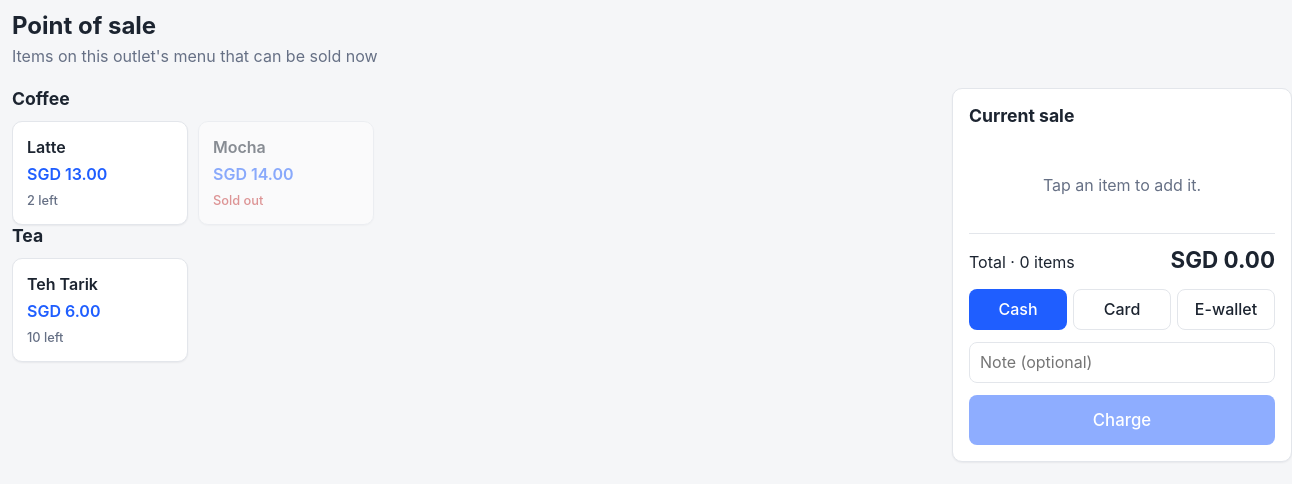
Scenario: PosPage › never puts more in the cart than is in stock
Expected: the text "Latte" is shown, [27,136,66,159]
Click the button "Latte SGD 13.00 2 left": (100, 173) [12,121,188,225]
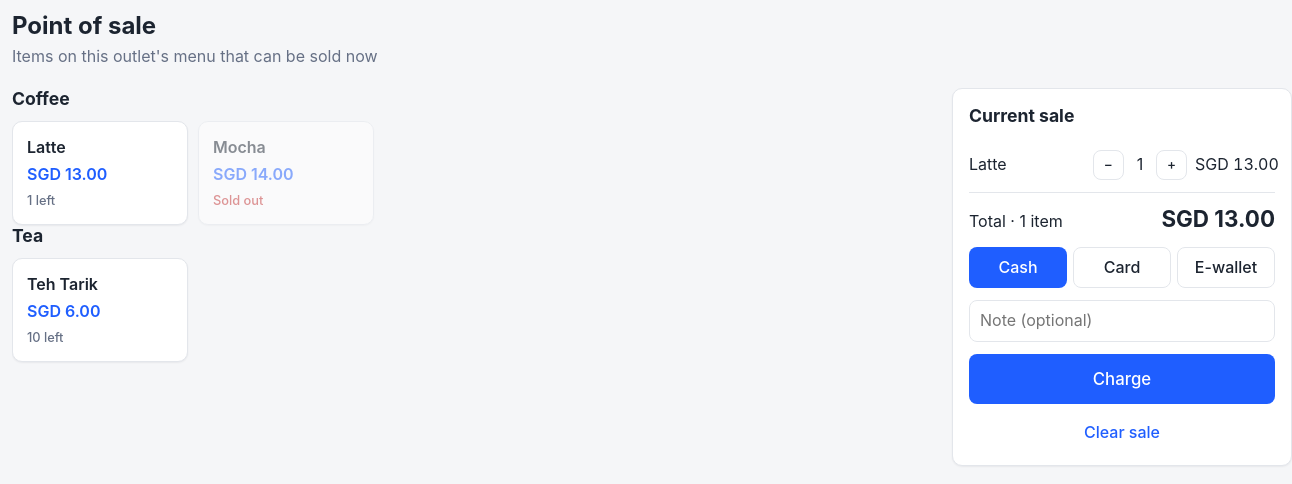
Click the button "Latte SGD 13.00 1 left": (100, 173) [12,121,188,225]
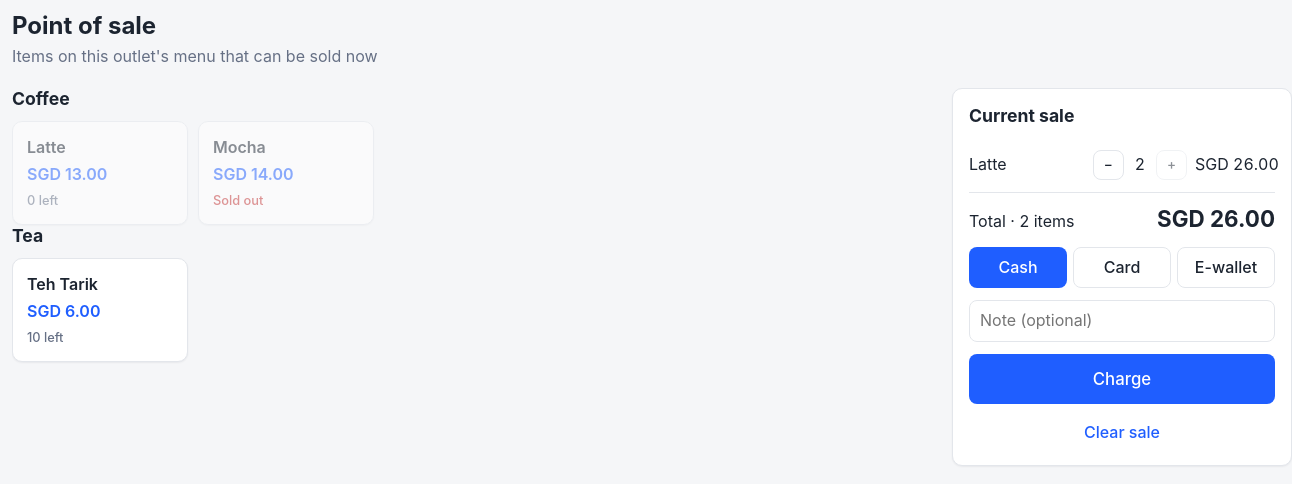
Expected: the button named "One more Latte" is disabled, [1156,150,1187,180]
Now the button "Latte SGD 13.00 0 left" is disabled, box [12,121,188,225]
Now the text "0 left" is shown, box [27,192,58,210]
